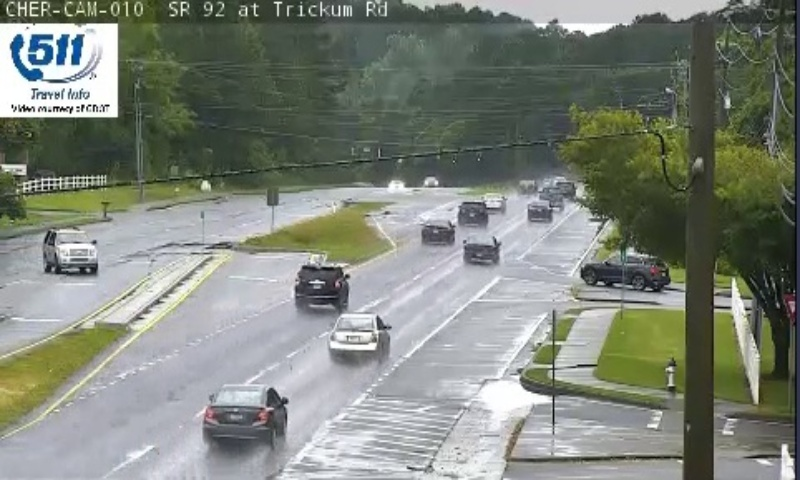car: (204, 383, 288, 441), (328, 312, 390, 357), (293, 263, 348, 304), (463, 232, 497, 261), (422, 220, 454, 245), (456, 200, 487, 225), (479, 193, 506, 214), (526, 200, 552, 221)
